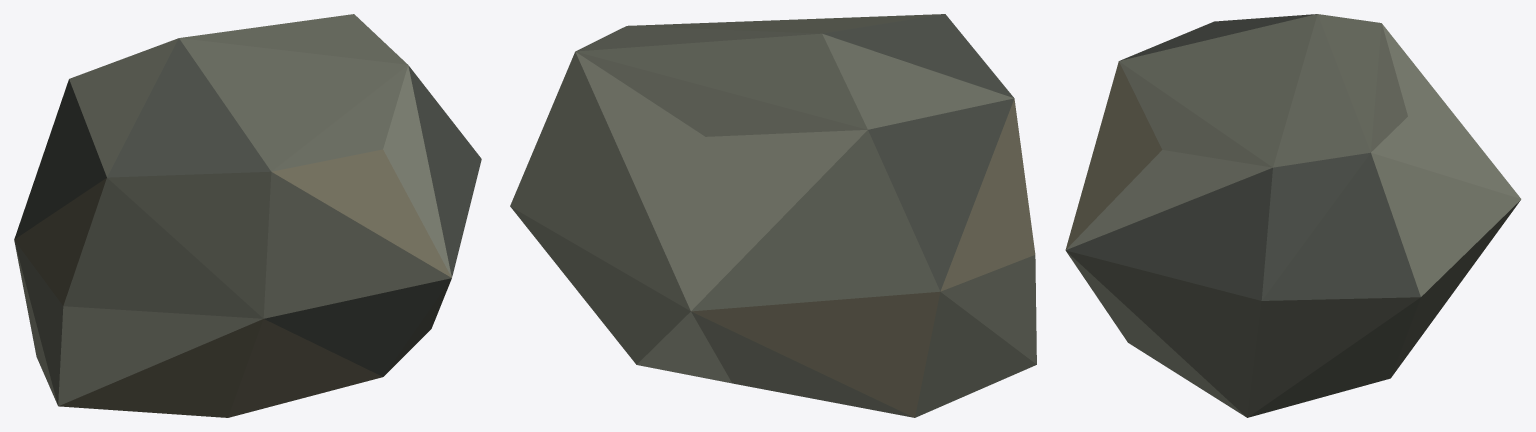
The model's file is Boulder_01.obj.
3 renders of one model, left to right at view 1: azimuth 30°, elevation 25°; view 2: azimuth 150°, elevation 25°; view 3: azimuth 270°, elevation 25°, orthographic. The views are drawn at different scales.
Parts seen in each view (by area): view 1: Boulder_01; view 2: Boulder_01; view 3: Boulder_01.
Boxes of the visible parts, box(x1,y1,x2,y2) form: Boulder_01: box(14, 14, 481, 417); Boulder_01: box(510, 14, 1036, 417); Boulder_01: box(1065, 14, 1521, 417).
Bounding box in the file's own units: 1.95 × 1.36 × 1.85.
Materials: 1 (1 with a texture image).
